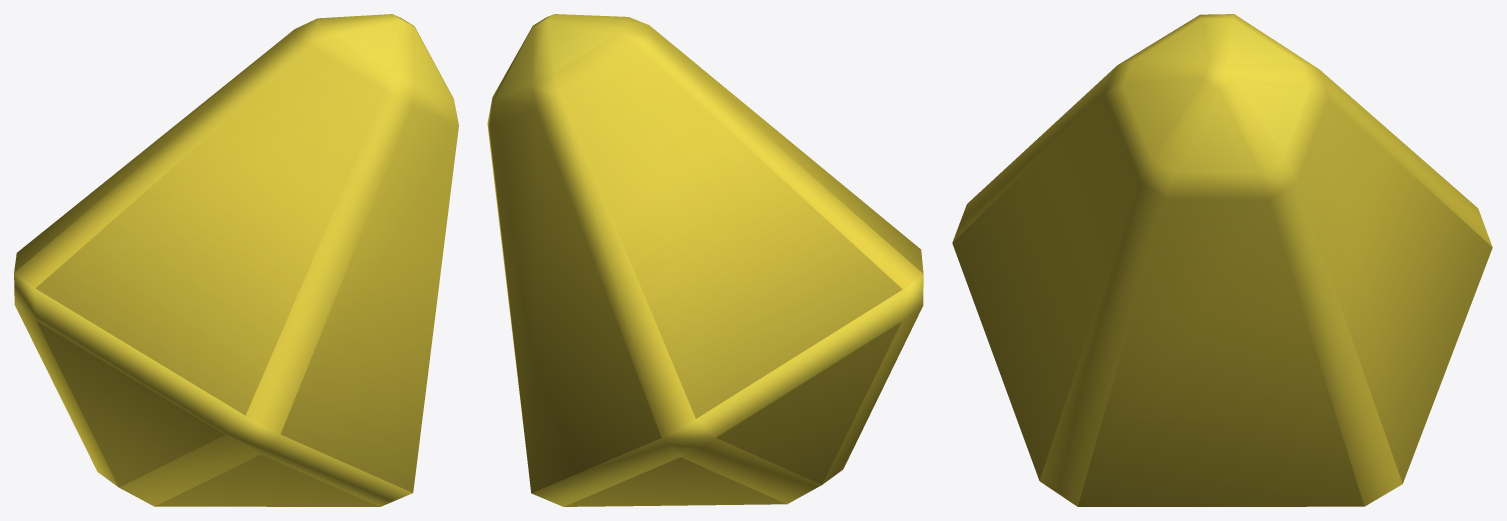
File: christal_topaz_7.fbx
3 views of the same model, side by side, from view 1: azimuth 30°, elevation 25°; view 2: azimuth 150°, elevation 25°; view 3: azimuth 270°, elevation 25° (orthographic). The views are drawn at different scales.
Parts seen in each view (by area): view 1: christal_topaz_7; view 2: christal_topaz_7; view 3: christal_topaz_7.
Part boxes in pixels (x1,y1,x2,y2): christal_topaz_7: (14, 14, 458, 506); christal_topaz_7: (487, 14, 923, 506); christal_topaz_7: (952, 14, 1492, 506).
Bounding box in the file's own units: 47.99 × 48.58 × 48.9.
Materials: 1 (1 with a texture image).
